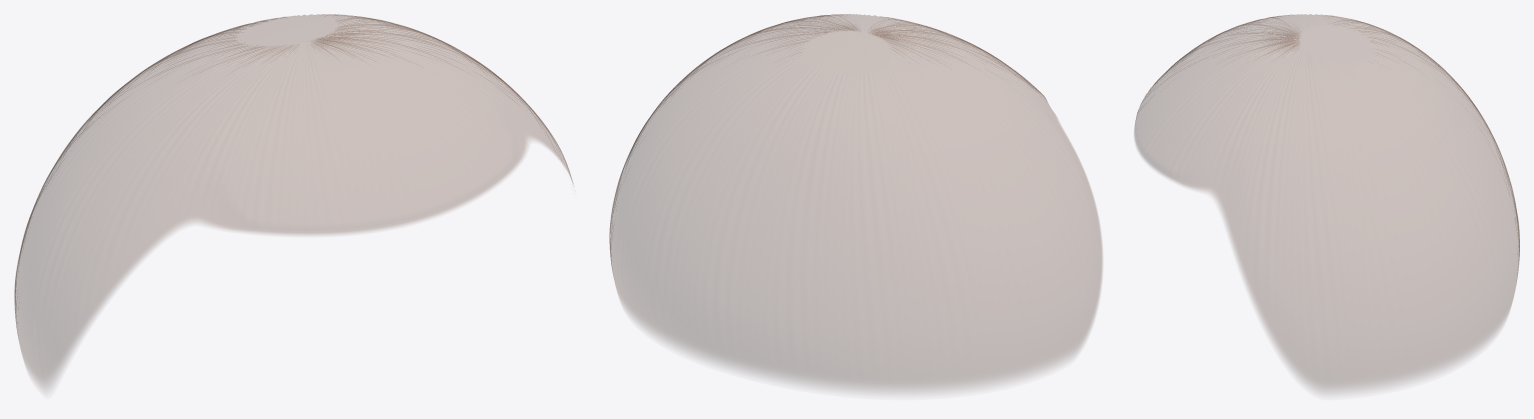
File: Ombre-13162f702c8e253-hair.glb
The picture shows the model from 3 angles, left to right: view 1: azimuth 30°, elevation 25°; view 2: azimuth 150°, elevation 25°; view 3: azimuth 270°, elevation 25°; orthographic projection. The views are drawn at different scales.
Visible parts, largest first — view 1: 226 hair / Hair252 / buzz edge.001; view 2: 226 hair / Hair252 / buzz edge.001; view 3: 226 hair / Hair252 / buzz edge.001.
Part boxes in pixels (x1,y1,x2,y2): 226 hair / Hair252 / buzz edge.001: [14, 14, 573, 389]; 226 hair / Hair252 / buzz edge.001: [609, 14, 1102, 392]; 226 hair / Hair252 / buzz edge.001: [1134, 14, 1519, 392].
Size of the model in its own units: 0.9886 by 0.5747 by 0.761.
Materials: 1 (1 with a texture image).
